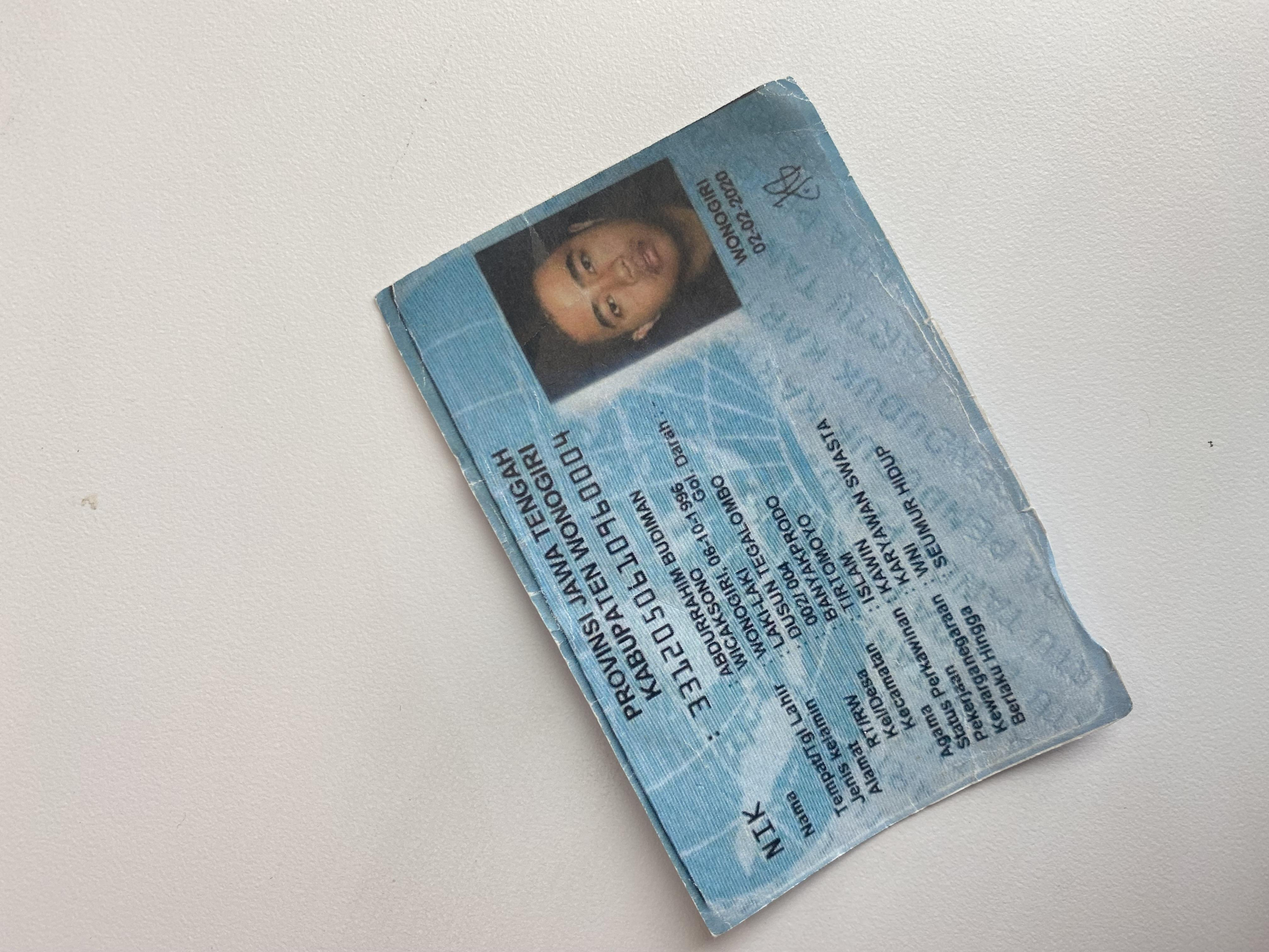ID-card: (15, 277, 1162, 849)
